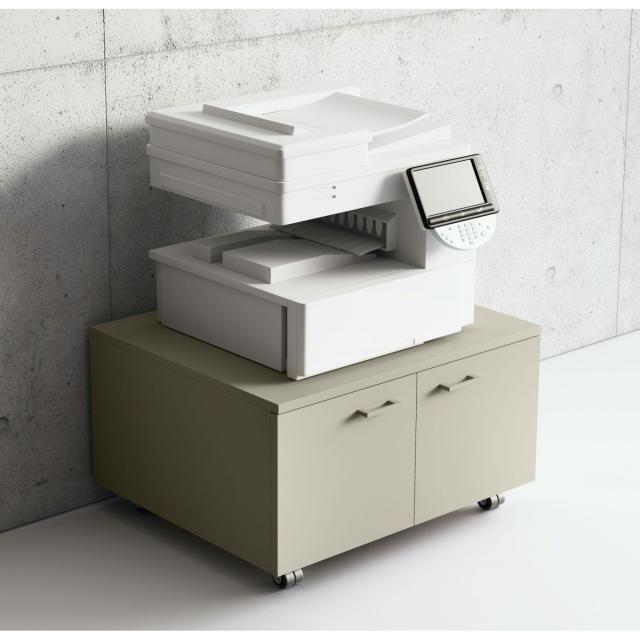printer: (143, 82, 500, 380)
